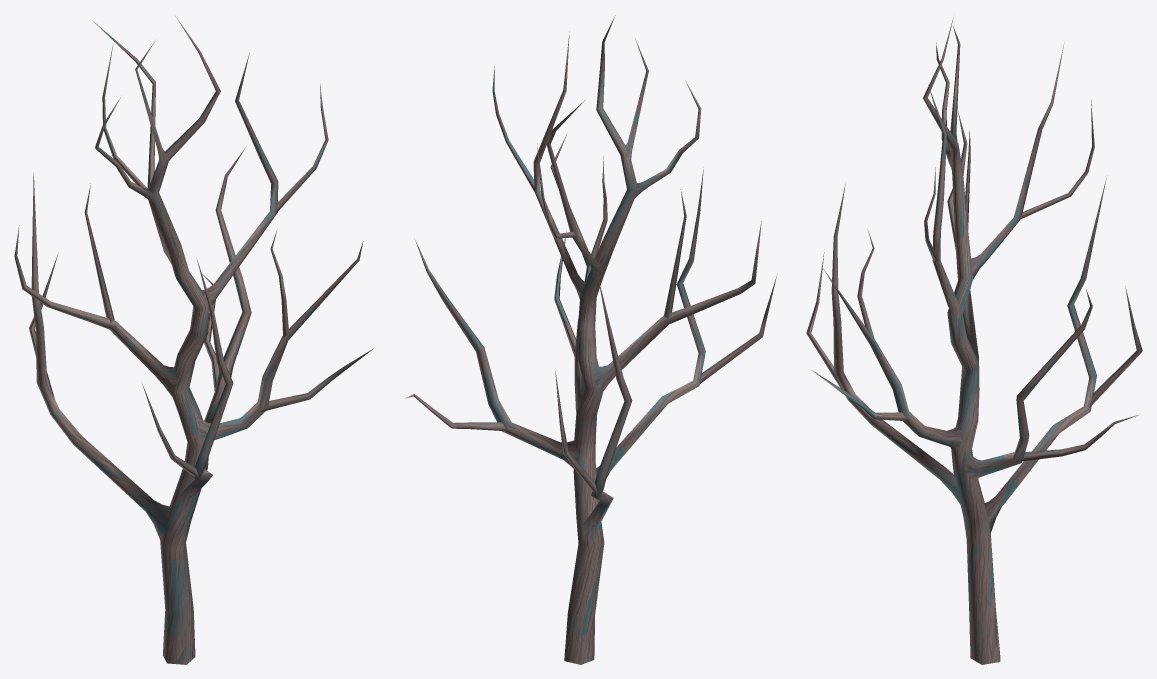
3 views of the same model, side by side, from view 1: azimuth 30°, elevation 25°; view 2: azimuth 150°, elevation 25°; view 3: azimuth 270°, elevation 25° (orthographic). The views are drawn at different scales.
Visible parts, largest first — view 1: submesh_0; view 2: submesh_0; view 3: submesh_0.
Part boxes in pixels (bbox=[...]): submesh_0: bbox=[14, 16, 373, 664]; submesh_0: bbox=[405, 15, 777, 664]; submesh_0: bbox=[806, 17, 1142, 664].
Bounding box in the file's own units: 0.8116 × 1.74 × 0.8373.
Materials: 1 (1 with a texture image).
